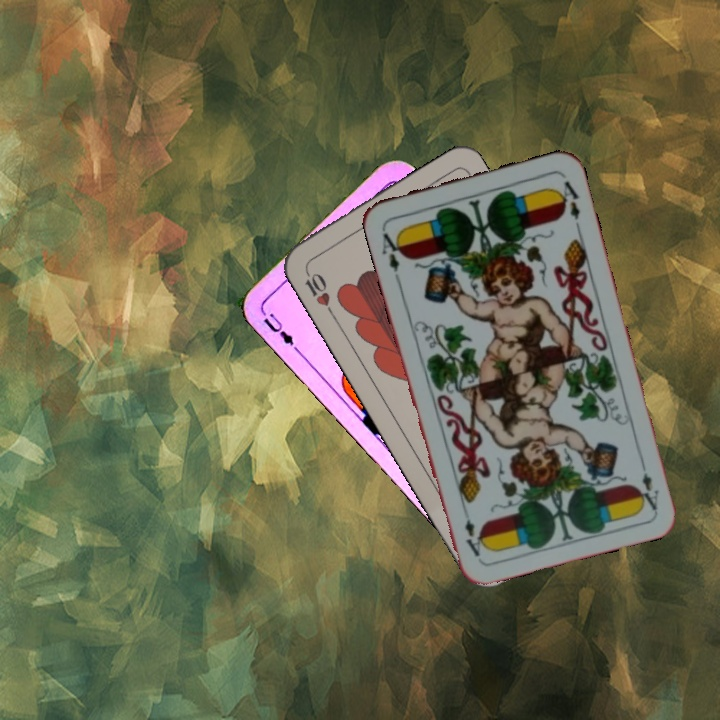EA: (377, 224, 407, 282), (634, 454, 661, 513)
EU: (256, 304, 300, 354)
H10: (300, 263, 336, 318)
